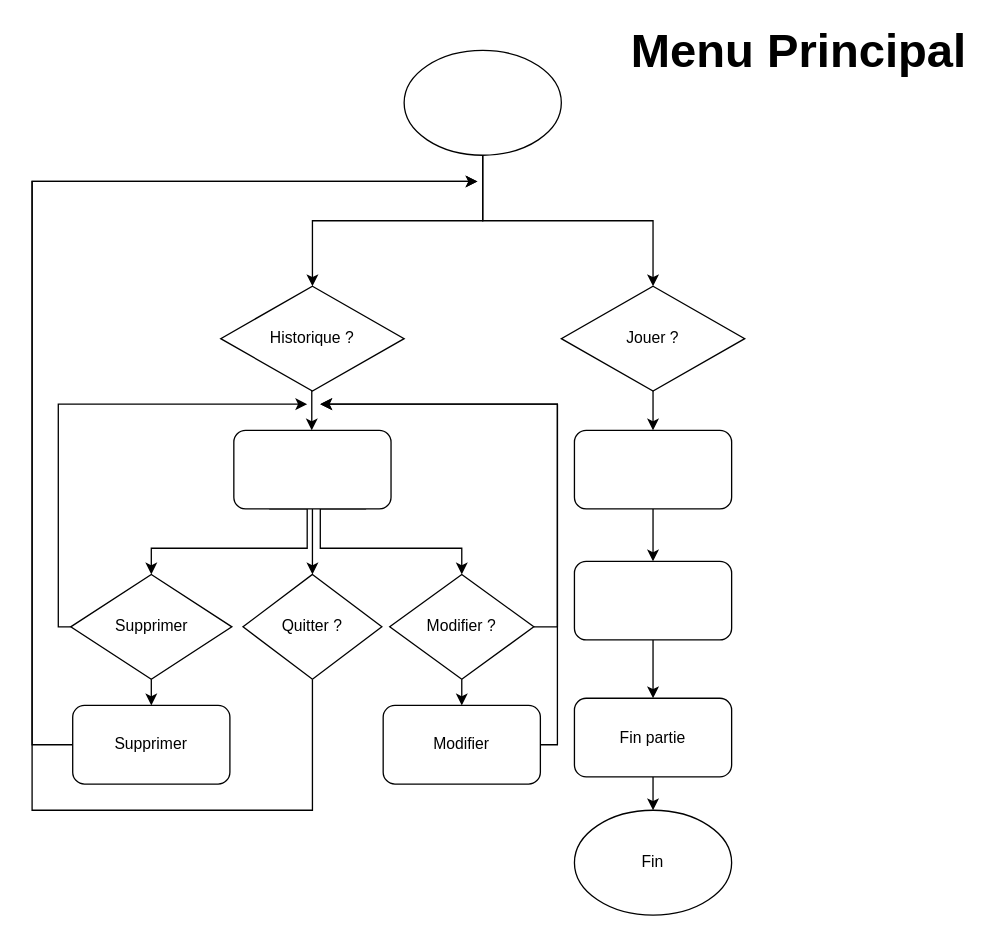
Image size: 998x938. Some labels were removed from this diagram. Here are the shapes that lost their labels. From the top down, the centre of each, then its label:
At [482,102]: "Début".
At [312,469]: "Afficher historique".
At [652,469]: "initialiser partie".
At [652,600]: "Jouer partie".
